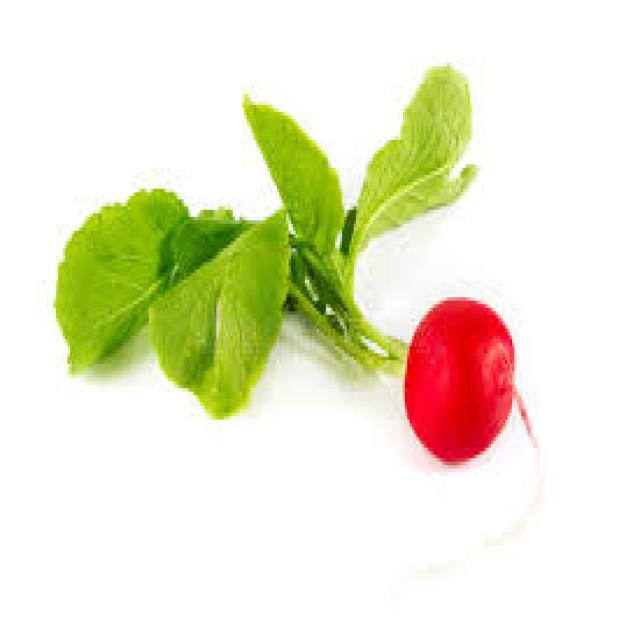organic waste: (51, 59, 540, 454), (400, 294, 514, 465)
